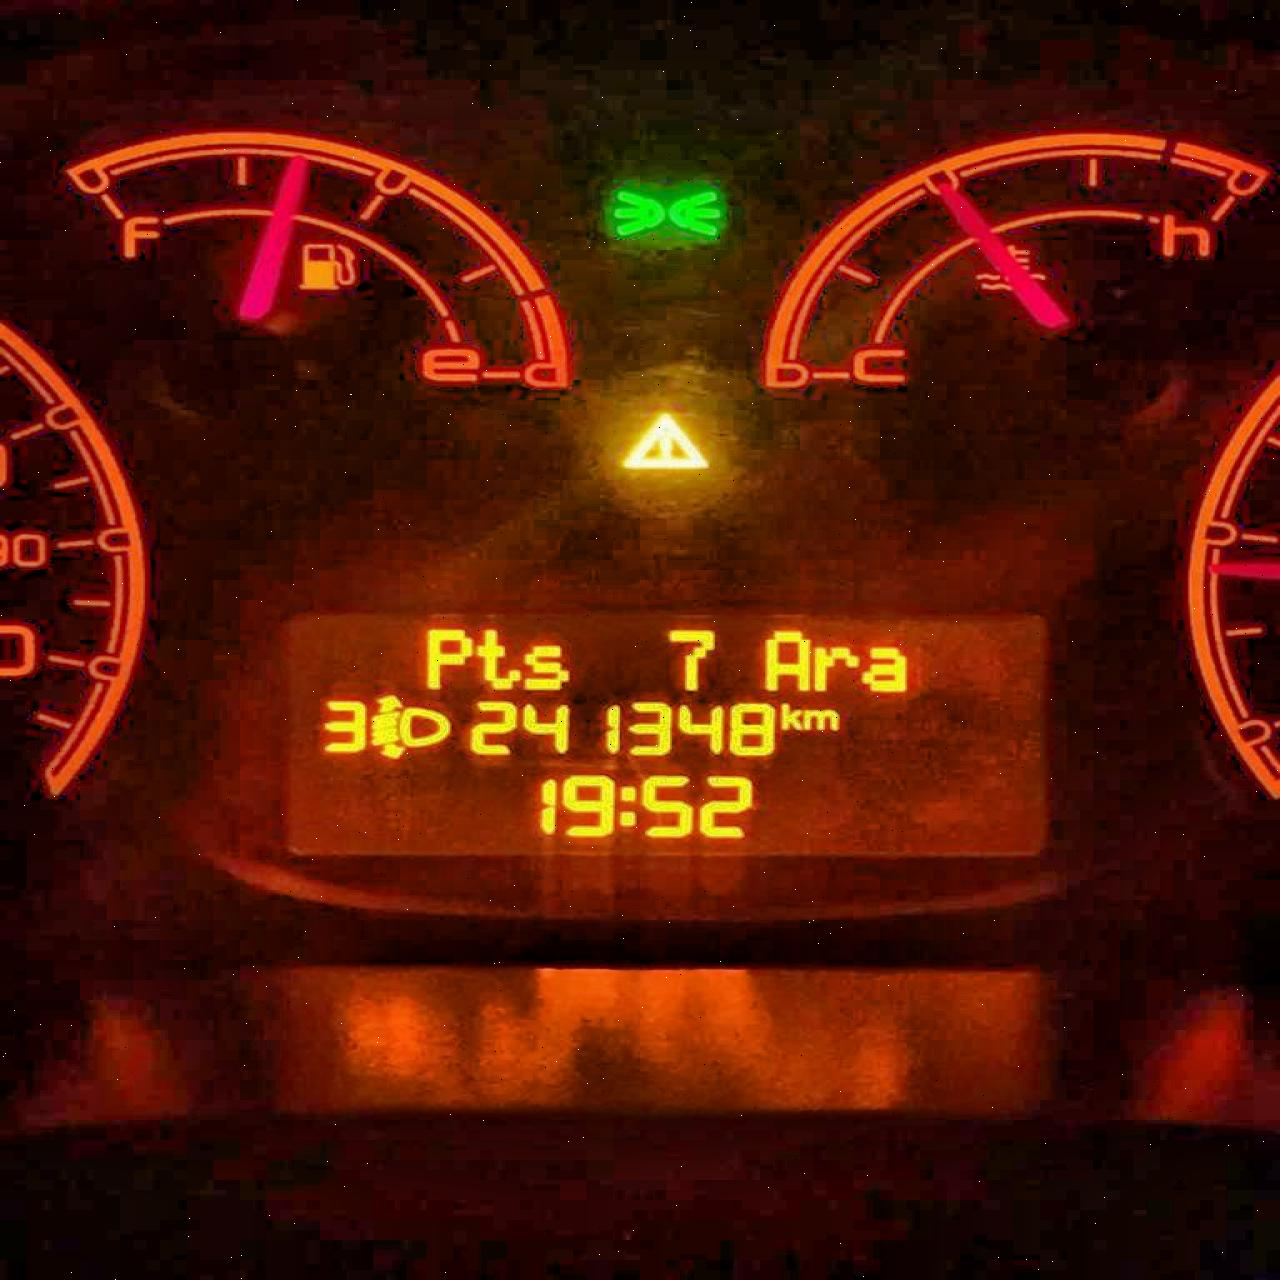1: (526, 772, 560, 837), (592, 702, 620, 756)
2: (695, 769, 754, 843), (459, 696, 518, 756)
3: (625, 697, 673, 758), (319, 697, 368, 755)
4: (673, 701, 727, 755), (520, 700, 576, 753)
5: (639, 770, 692, 840)
7: (660, 624, 722, 695)
8: (727, 699, 776, 760)
9: (560, 771, 615, 840)
X: (758, 625, 813, 694), (418, 625, 471, 692), (474, 625, 518, 692), (858, 644, 913, 694), (524, 641, 573, 693), (811, 644, 857, 692), (802, 704, 842, 731), (617, 783, 636, 829), (779, 699, 799, 731)
odometer: (260, 598, 1065, 869)
